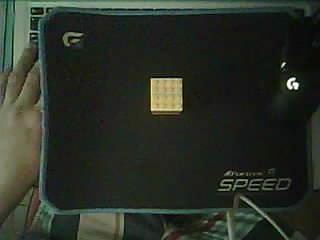lego: (150, 78, 183, 114)
